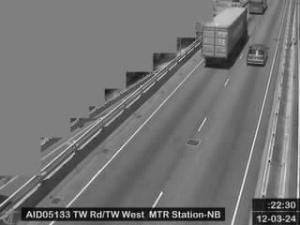bus: (248, 0, 268, 14)
truck: (202, 5, 248, 66)
vehicle: (246, 44, 270, 66)
